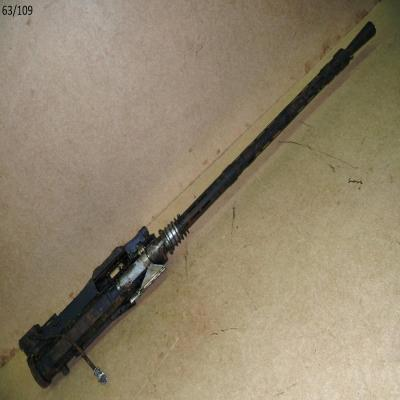weapon: (18, 24, 376, 388)
